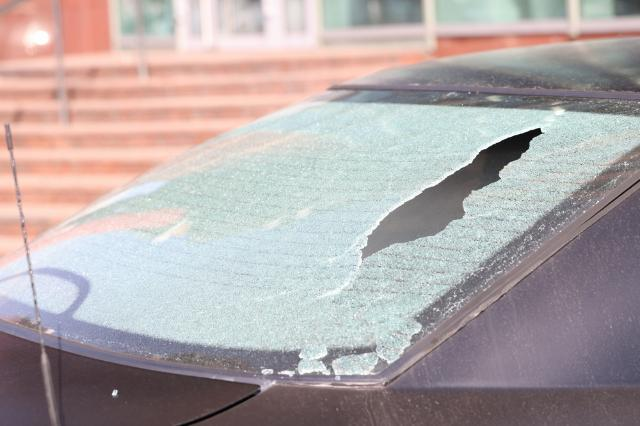glass shatter: (0, 90, 640, 377)
